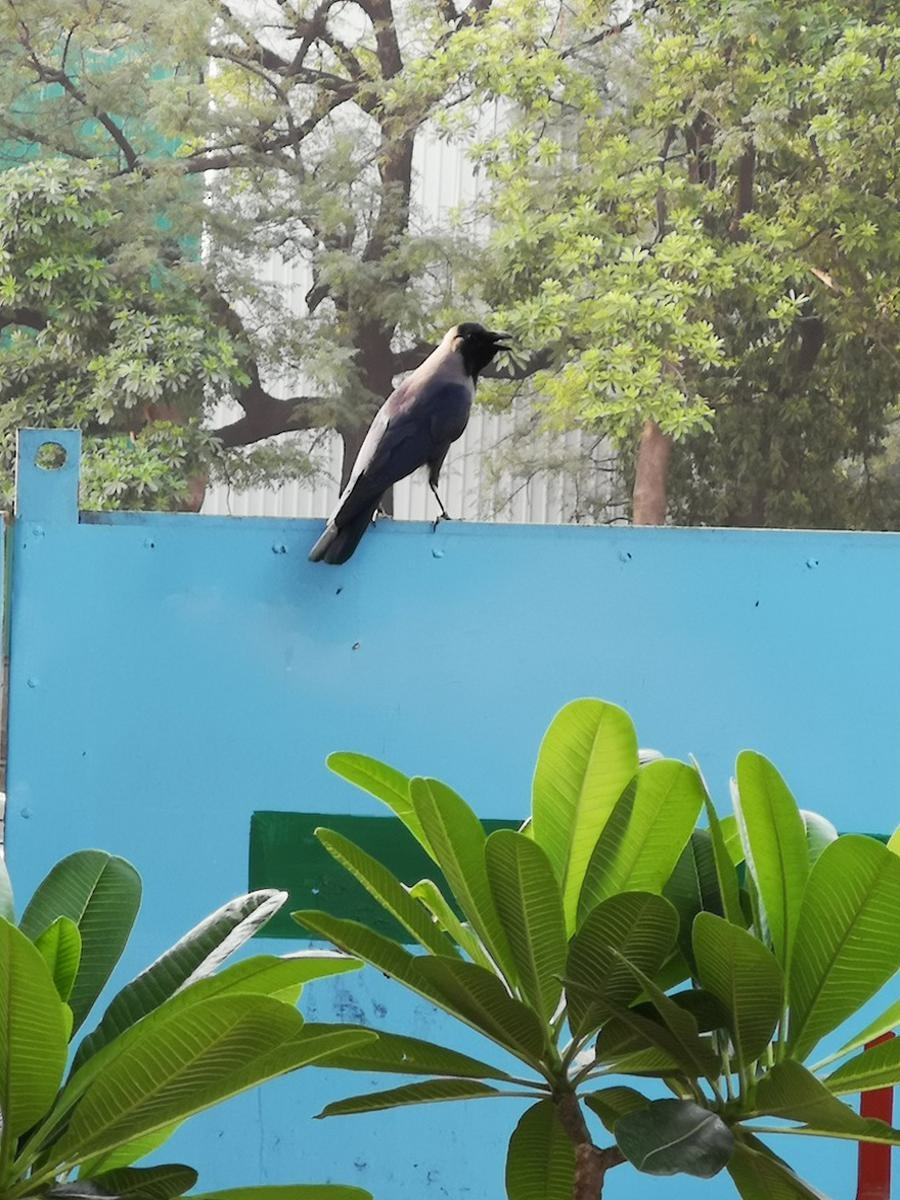crow: (310, 307, 525, 584)
